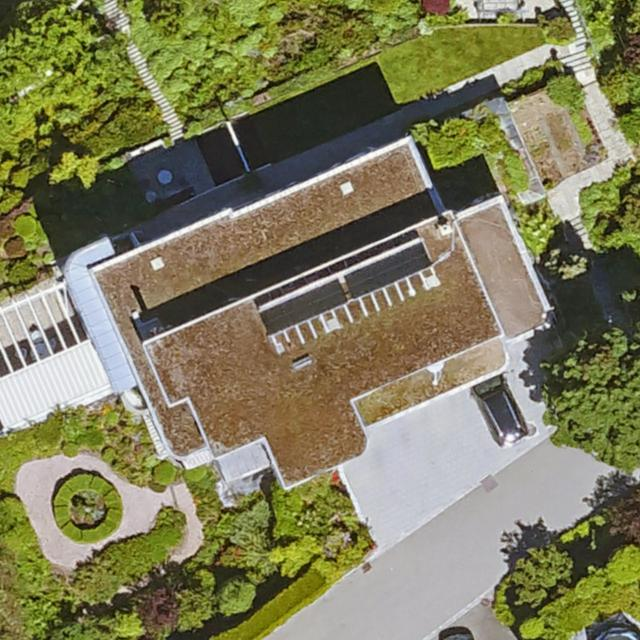tree: (548, 327, 640, 472), (514, 546, 574, 611), (603, 489, 640, 541), (217, 576, 255, 617)
